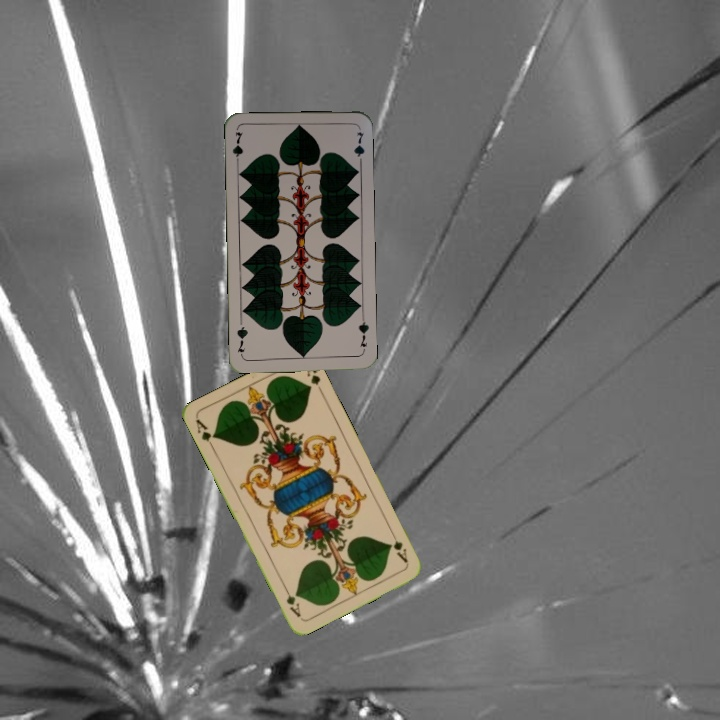G7: (229, 128, 246, 168), (354, 314, 371, 349)
GA: (191, 415, 218, 453), (386, 527, 411, 566)
